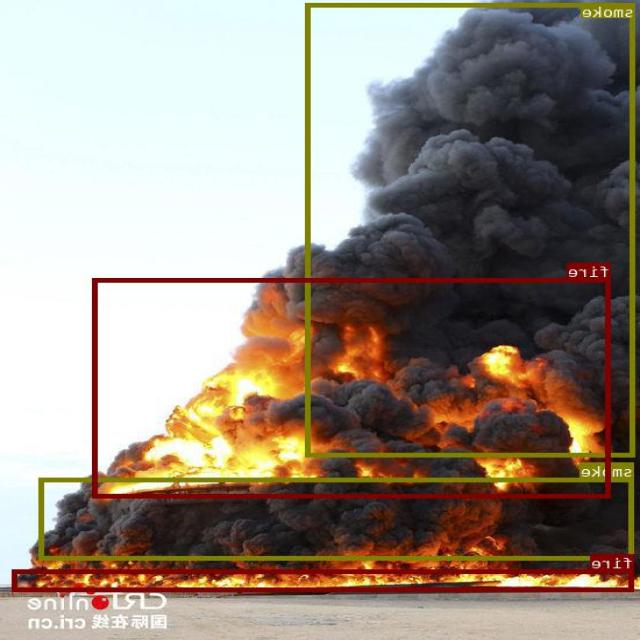fire: (94, 278, 612, 498), (14, 568, 635, 590)
smoke: (307, 2, 636, 456), (41, 477, 635, 560)
